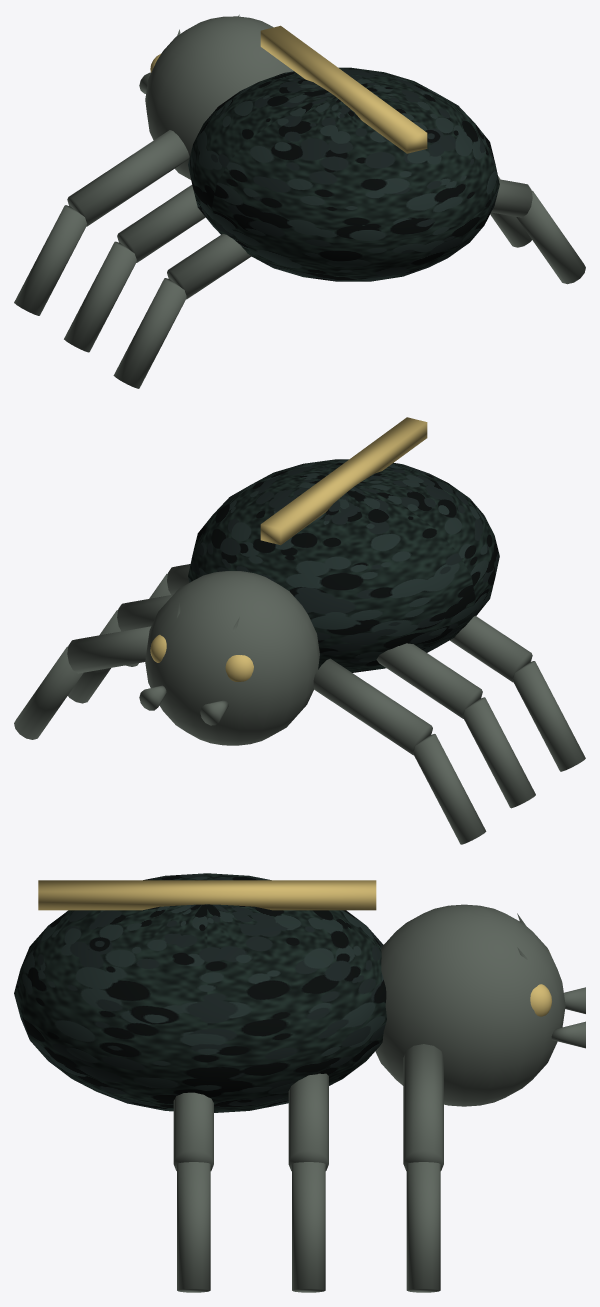
File: scarab-swarm.glb
The picture shows the model from 3 angles, top to bottom: view 1: azimuth 30°, elevation 25°; view 2: azimuth 150°, elevation 25°; view 3: azimuth 270°, elevation 25°; orthographic projection. The views are drawn at different scales.
Parts seen in each view (by area): view 1: RearShell, Head, ElytraRidge, LegUpper, LegLower.002, LegLower, LegLower.004, LegUpper.002, LegUpper.004, LegLower.005, LegUpper.005, LegLower.003; view 2: RearShell, Head, ElytraRidge, LegUpper, LegUpper.002, LegLower, LegLower.002, LegLower.004, LegUpper.001, LegUpper.004, LegLower.001, LegUpper.003 (+2 smaller); view 3: RearShell, Head, ElytraRidge, LegUpper.001, LegLower.001, LegLower.003, LegLower.005, LegUpper.003, LegUpper.005, Mandible.001, ScarabEye.001.
Boxes of the visible parts, x1,y1,x2,y2 form: RearShell: [188, 67, 499, 281]; Head: [145, 16, 293, 179]; ElytraRidge: [260, 25, 427, 153]; LegUpper: [67, 130, 189, 226]; LegLower.002: [64, 241, 136, 352]; LegLower: [14, 205, 86, 315]; LegLower.004: [113, 278, 186, 388]; LegUpper.002: [117, 185, 205, 262]; LegUpper.004: [167, 234, 251, 299]; LegLower.005: [516, 190, 585, 284]; LegUpper.005: [491, 179, 532, 217]; LegLower.003: [490, 176, 531, 247]; RearShell: [188, 459, 499, 672]; Head: [145, 571, 319, 745]; ElytraRidge: [260, 417, 427, 545]; LegUpper: [313, 658, 432, 755]; LegUpper.002: [376, 643, 482, 718]; LegLower: [413, 734, 486, 844]; LegLower.002: [463, 697, 535, 808]; LegLower.004: [513, 661, 585, 771]; LegUpper.001: [67, 626, 151, 673]; LegUpper.004: [450, 615, 532, 682]; LegLower.001: [14, 646, 83, 739]; LegUpper.003: [117, 594, 172, 631]; RearShell: [14, 873, 386, 1112]; Head: [375, 904, 565, 1106]; ElytraRidge: [38, 880, 376, 910]; LegUpper.001: [403, 1044, 443, 1170]; LegLower.001: [406, 1162, 440, 1292]; LegLower.003: [292, 1162, 325, 1292]; LegLower.005: [177, 1162, 210, 1292]; LegUpper.003: [288, 1073, 328, 1171]; LegUpper.005: [173, 1092, 213, 1170]; Mandible.001: [551, 1021, 585, 1048]; ScarabEye.001: [530, 984, 551, 1016].
Bounding box in the file's own units: 0.9849 × 0.5 × 0.9034.
3 materials, 1 textured.
